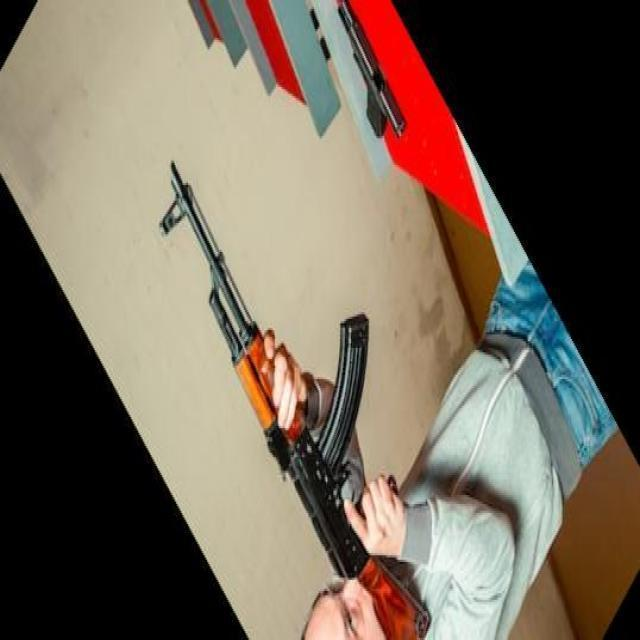Rifle: (157, 158, 433, 640)
